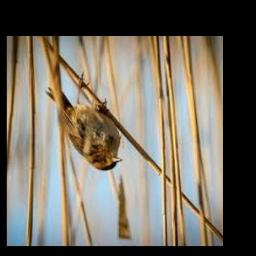Sparrow: (46, 74, 123, 171)
